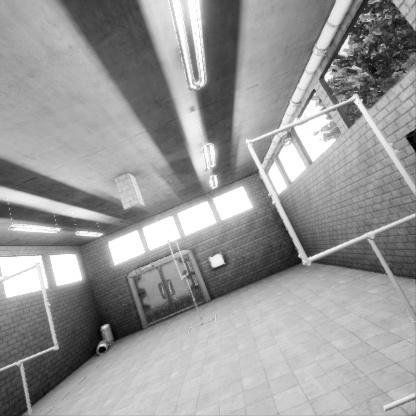gate: (248, 156, 416, 329), (167, 137, 188, 175)
